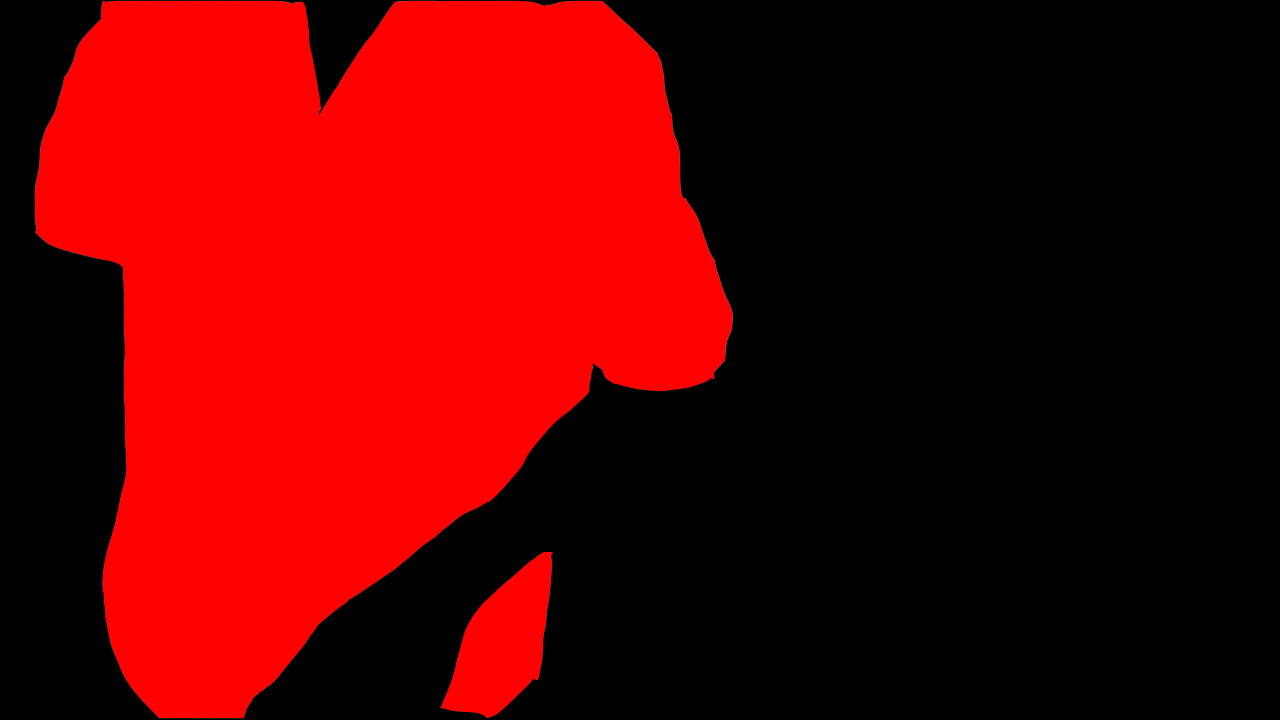uniforme_ifmt: (22, 2, 719, 720)
